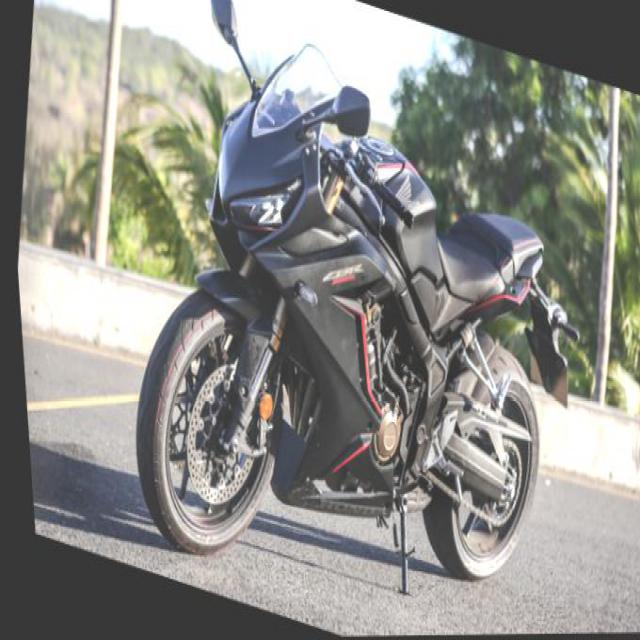CBR650R: (93, 0, 614, 637)
